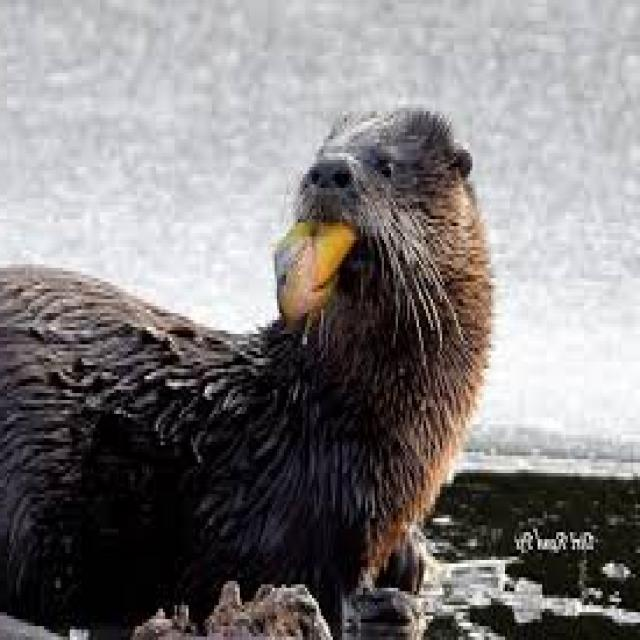otter: (2, 108, 493, 637)
